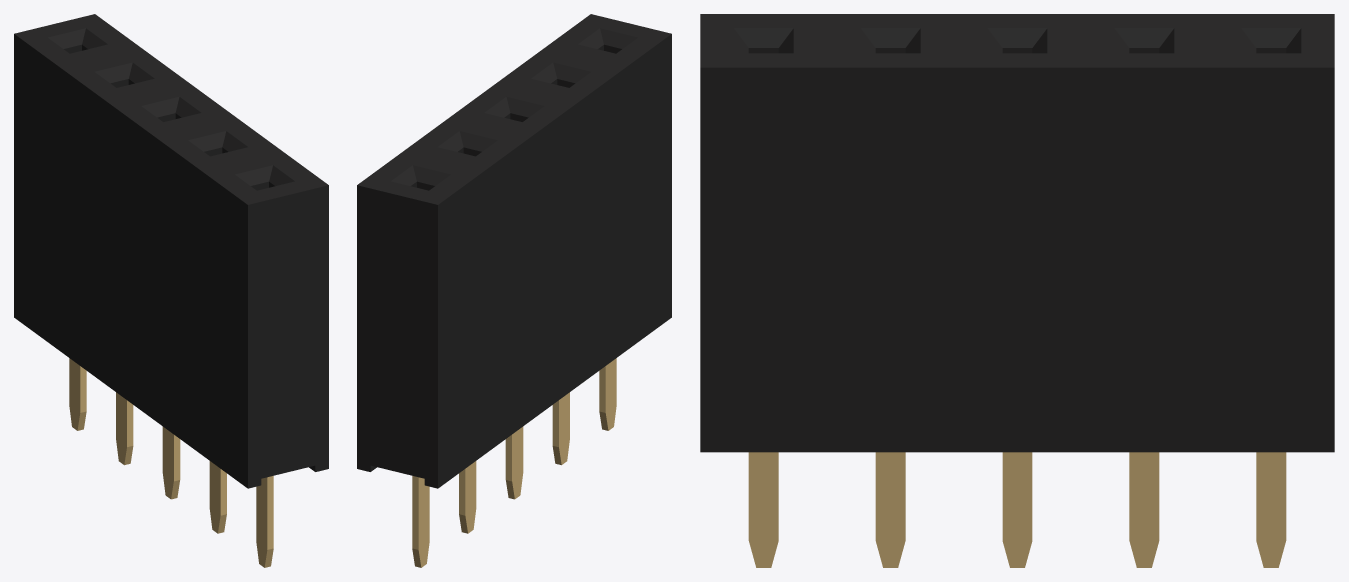
The model's file is PinSocket_1x05_P2.54mm_Vertical.glb.
3 renders of one model, left to right at view 1: azimuth 30°, elevation 25°; view 2: azimuth 150°, elevation 25°; view 3: azimuth 270°, elevation 25°, orthographic. The views are drawn at different scales.
Parts seen in each view (by area): view 1: =>[0:1:1:3]; view 2: =>[0:1:1:3]; view 3: =>[0:1:1:3].
Part boxes in pixels (box(x1,y1,x2,y2)): =>[0:1:1:3]: box(14, 14, 328, 567); =>[0:1:1:3]: box(357, 14, 671, 567); =>[0:1:1:3]: box(700, 14, 1334, 567).
Bounding box in the file's own units: 0.00254 × 0.0116 × 0.0127.
